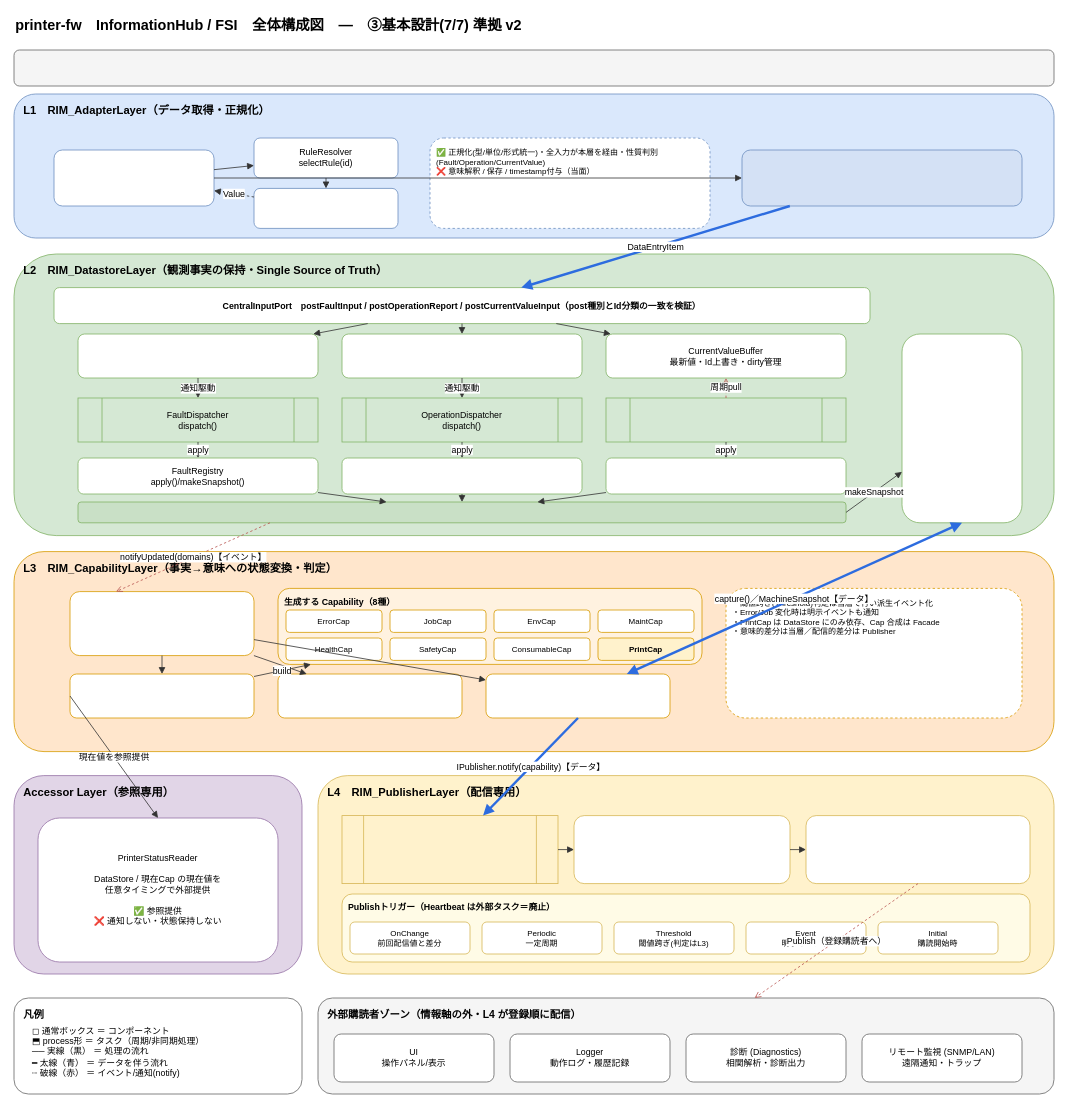
Image size: 1068x1108. Some labels were removed from this diagram. Here are the shapes that lost their labels. From the top down, the centre of each, then its label:
At (x=533, y=67): "入力源（外部・駆動軸接点）：印字データ ／ ユーザ操作 ／ センサ値 ／ 動作報告（駆動軸）".
At (x=133, y=177): "RawDataInput 入力の起点・処理制御".
At (x=881, y=177): "性質を判別し 3種 post を選択 → CentralInputPort".
At (x=325, y=208): "Rule convert(rawValue, ctx)".
At (x=197, y=355): "FaultInputQueue 異常系・高優先・FIFO".
At (x=461, y=355): "OperationReportQueue 動作報告・順序保証・FIFO".
At (x=725, y=419): "CurrentValueDispatcher 周期起動 takeUpdatedValues()".
At (x=961, y=428): "MachineSnapshotReader capture(request) → MachineSnapshot （部分・読取専用・不変）".
At (x=461, y=475): "OperationRegistry apply()/makeSnapshot()".
At (x=725, y=475): "CurrentValueRegistry apply()/makeSnapshot()".
At (x=461, y=512): "MachineRegistry（3 Registry を集約するファサード）".
At (x=161, y=623): "CapabilityManager onRegistryUpdated(domains) 制御中枢（取得→生成→差分→優先度→通知）".
At (x=161, y=695): "CapabilityBuilder build(Snapshot)".
At (x=369, y=695): "CapabilityDiffChecker 意味的差分 hasDifference()".
At (x=577, y=695): "CapabilityPriorityChecker check()→Low/Normal/High/Critical".
At (x=449, y=849): "② Publish Engine Capability ごとにタスク生成 配信管理・Rate Limit".
At (x=681, y=849): "① State Repository 購読者ごと最終配信値 配信的差分(OnChange/Threshold)".
At (x=917, y=849): "③ Subscription Broker 購読者の登録/解除 関心Cap一致判定・配信".
